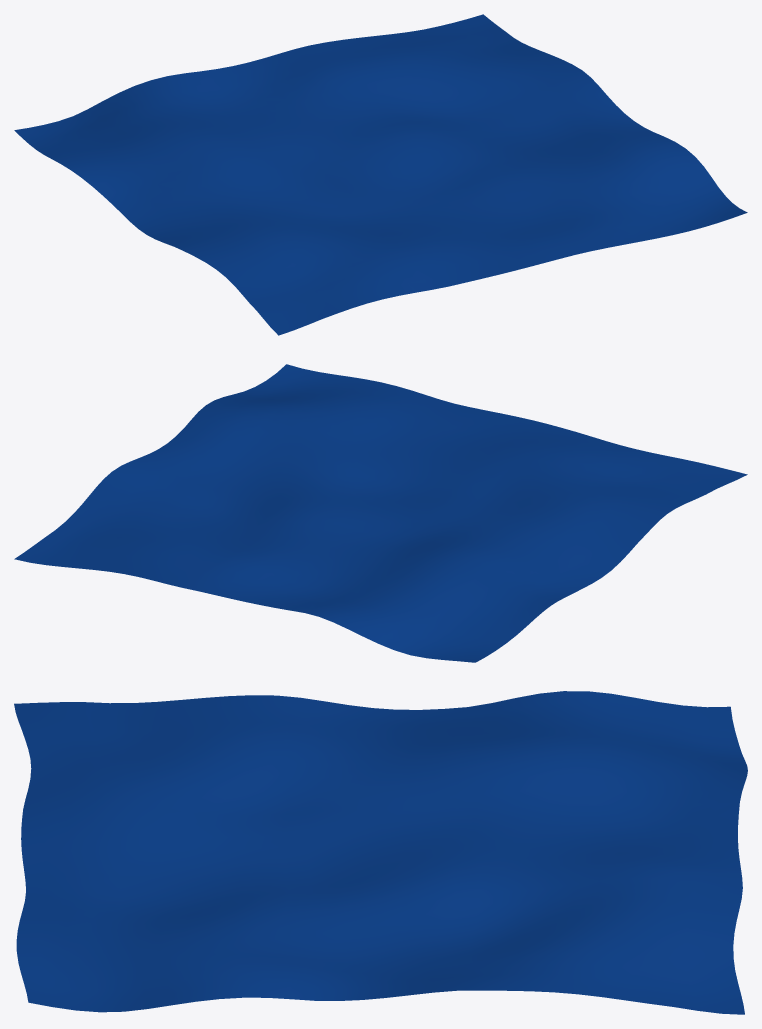
Rendered from wave_4.obj.
3 views of the same model, one above another, from view 1: azimuth 30°, elevation 25°; view 2: azimuth 150°, elevation 25°; view 3: azimuth 270°, elevation 25° (orthographic). The views are drawn at different scales.
Parts seen in each view (by area): view 1: Plane001; view 2: Plane001; view 3: Plane001.
Part boxes in pixels (x1,y1,x2,y2): Plane001: [14, 14, 747, 335]; Plane001: [14, 364, 747, 662]; Plane001: [14, 691, 747, 1014].
Bounding box in the file's own units: 403 × 17.63 × 403.
